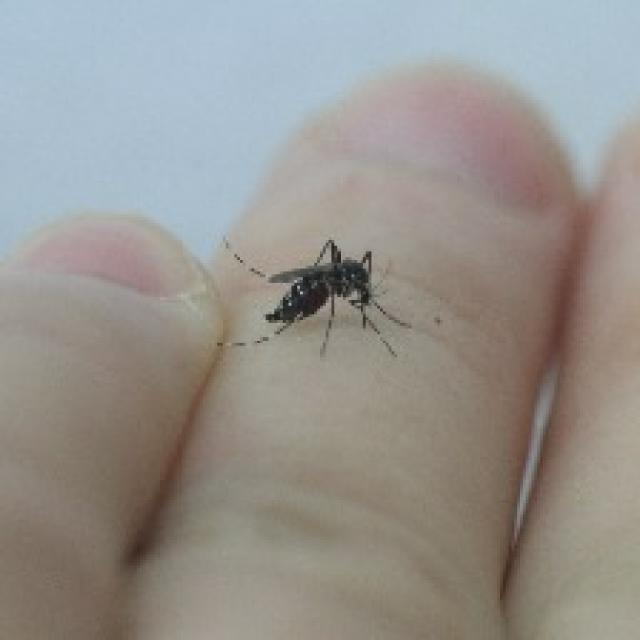aedes: (217, 229, 414, 360)
